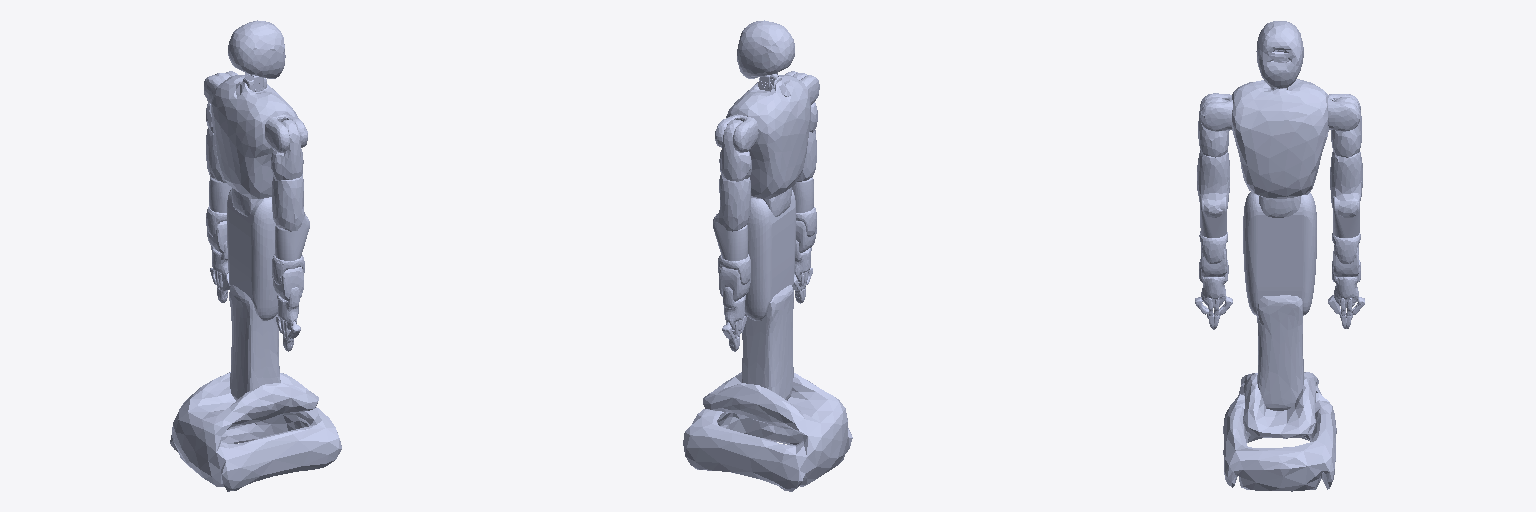
--- What the picture shows (computed from the rendered views, not written in the file) ---
Views: 3 orthographic renders of the robot side by side, from view 1: azimuth 30°, elevation 25°; view 2: azimuth 150°, elevation 25°; view 3: azimuth 270°, elevation 25°.
Model autolife with 39 links and 38 joints (22 revolute, 2 prismatic, 14 fixed), rooted at Link_Zero_Point, posed all joints at 0.
Visible links, largest first — view 1: Link_Ground_Vehicle, Link_Waist_Yaw_to_Shoulder_Inner, Link_Knee_to_Waist_Pitch, Link_Ankle_to_Knee, Link_Head, Link_Right_UpperArm_to_Elbow, Link_Right_Shoulder_Outer_to_UpperArm, Link_Right_Shoulder_Inner_to_Shoulder_Outer, Link_Right_Elbow_to_Forearm, Link_Right_Wrist_Upper_to_Wrist_Lower, Link_Right_Wrist_Lower_to_Gripper, Link_Left_Elbow_to_Forearm (+1 smaller); view 2: Link_Ground_Vehicle, Link_Waist_Yaw_to_Shoulder_Inner, Link_Knee_to_Waist_Pitch, Link_Ankle_to_Knee, Link_Head, Link_Left_UpperArm_to_Elbow, Link_Left_Shoulder_Outer_to_UpperArm, Link_Left_Shoulder_Inner_to_Shoulder_Outer, Link_Left_Elbow_to_Forearm, Link_Left_Wrist_Upper_to_Wrist_Lower, Link_Left_Wrist_Lower_to_Gripper, Link_Right_Elbow_to_Forearm; view 3: Link_Ground_Vehicle, Link_Waist_Yaw_to_Shoulder_Inner, Link_Knee_to_Waist_Pitch, Link_Ankle_to_Knee, Link_Head, Link_Left_UpperArm_to_Elbow, Link_Right_UpperArm_to_Elbow, Link_Right_Shoulder_Inner_to_Shoulder_Outer, Link_Left_Shoulder_Inner_to_Shoulder_Outer, Link_Right_Shoulder_Outer_to_UpperArm, Link_Left_Shoulder_Outer_to_UpperArm, Link_Waist_Pitch_to_Waist_Yaw (+6 smaller).
Boxes of the visible links, left/top/right/bottom form: Link_Ground_Vehicle: left=170, top=372, right=341, bottom=491; Link_Waist_Yaw_to_Shoulder_Inner: left=211, top=75, right=298, bottom=198; Link_Knee_to_Waist_Pitch: left=227, top=189, right=277, bottom=320; Link_Ankle_to_Knee: left=229, top=285, right=280, bottom=400; Link_Head: left=228, top=20, right=285, bottom=78; Link_Right_UpperArm_to_Elbow: left=272, top=174, right=307, bottom=231; Link_Right_Shoulder_Outer_to_UpperArm: left=271, top=120, right=303, bottom=180; Link_Right_Shoulder_Inner_to_Shoulder_Outer: left=265, top=114, right=307, bottom=152; Link_Right_Elbow_to_Forearm: left=275, top=218, right=309, bottom=260; Link_Right_Wrist_Upper_to_Wrist_Lower: left=272, top=267, right=303, bottom=300; Link_Right_Wrist_Lower_to_Gripper: left=277, top=287, right=299, bottom=329; Link_Left_Elbow_to_Forearm: left=209, top=176, right=231, bottom=212; Link_Ground_Vehicle: left=683, top=372, right=852, bottom=491; Link_Waist_Yaw_to_Shoulder_Inner: left=726, top=75, right=810, bottom=198; Link_Knee_to_Waist_Pitch: left=745, top=190, right=795, bottom=320; Link_Ankle_to_Knee: left=742, top=285, right=793, bottom=400; Link_Head: left=737, top=20, right=794, bottom=78; Link_Left_UpperArm_to_Elbow: left=713, top=174, right=751, bottom=231; Link_Left_Shoulder_Outer_to_UpperArm: left=719, top=120, right=751, bottom=181; Link_Left_Shoulder_Inner_to_Shoulder_Outer: left=715, top=114, right=758, bottom=152; Link_Left_Elbow_to_Forearm: left=713, top=219, right=747, bottom=260; Link_Left_Wrist_Upper_to_Wrist_Lower: left=719, top=267, right=750, bottom=301; Link_Left_Wrist_Lower_to_Gripper: left=723, top=287, right=745, bottom=329; Link_Right_Elbow_to_Forearm: left=792, top=177, right=813, bottom=212; Link_Ground_Vehicle: left=1223, top=372, right=1336, bottom=491; Link_Waist_Yaw_to_Shoulder_Inner: left=1232, top=79, right=1328, bottom=198; Link_Knee_to_Waist_Pitch: left=1243, top=192, right=1316, bottom=315; Link_Ankle_to_Knee: left=1257, top=295, right=1303, bottom=410; Link_Head: left=1256, top=21, right=1303, bottom=88; Link_Left_UpperArm_to_Elbow: left=1330, top=151, right=1362, bottom=217; Link_Right_UpperArm_to_Elbow: left=1197, top=150, right=1229, bottom=217; Link_Right_Shoulder_Inner_to_Shoulder_Outer: left=1200, top=93, right=1232, bottom=131; Link_Left_Shoulder_Inner_to_Shoulder_Outer: left=1328, top=94, right=1360, bottom=131; Link_Right_Shoulder_Outer_to_UpperArm: left=1198, top=97, right=1229, bottom=157; Link_Left_Shoulder_Outer_to_UpperArm: left=1331, top=97, right=1361, bottom=157; Link_Waist_Pitch_to_Waist_Yaw: left=1259, top=196, right=1300, bottom=217.
Size in the robot's own frame: 0.5444 by 0.5882 by 1.68 metres.
35 mesh visuals loaded from 35 distinct referenced files (35 binary STL).

URDF robot description (autolife):
<?xml version="1.0" encoding="utf-8"?>
<robot name="autolife" path="/media/run/Work/Autolife-Planning/resources/robot/autolife/autolife_base_simple.urdf">
	<link name="Link_Zero_Point"></link>
	<link name="Link_Ground_Vehicle">
		<inertial>
			<origin xyz="-0.00059754303639295 0.0149481956156007 0.148277224545407" rpy="0 0 0"></origin>
			<mass value="1.76472901588276"></mass>
			<inertia ixx="0.00762290845782773" ixy="-2.93910770754353E-06" ixz="1.23694503771444E-05" iyy="0.00825103535952957" iyz="-0.000230532648823267" izz="0.0116628518559184"></inertia>
		</inertial>
		<visual>
			<origin xyz="0 0 0" rpy="0 0 0"></origin>
			<geometry>
				<mesh filename="package://meshes/Link_Ground_Vehicle.STL"></mesh>
			</geometry>
			<material name="">
				<color rgba="0.792156862745098 0.819607843137255 0.933333333333333 1"></color>
			</material>
		</visual>
		<collision>
			<geometry>
				<sphere radius="0.229268"></sphere>
			</geometry>
			<origin xyz="0.05104522626781464 -0.07125896588134766 0.15496367951934784" rpy="0 0 0"></origin>
		</collision>
		<collision>
			<geometry>
				<sphere radius="0.230799"></sphere>
			</geometry>
			<origin xyz="-0.006399773732185364 0.15706803411865233 0.14678767951934785" rpy="0 0 0"></origin>
		</collision>
		<collision>
			<geometry>
				<sphere radius="0.228216"></sphere>
			</geometry>
			<origin xyz="-0.04968377373218536 -0.08280196588134765 0.16545967951934784" rpy="0 0 0"></origin>
		</collision>
	</link>
	<link name="Link_Ankle_to_Knee">
		<inertial>
			<origin xyz="0.16976859107005 5.04511593380345E-05 -0.011659592653352" rpy="0 0 0"></origin>
			<mass value="0.970205344211634"></mass>
			<inertia ixx="0.00239278275003047" ixy="1.06865300816035E-05" ixz="9.37318496690757E-05" iyy="0.0180709718856655" iyz="4.97919456103669E-05" izz="0.0167571631367957"></inertia>
		</inertial>
		<visual>
			<origin xyz="0 0 0" rpy="0 0 0"></origin>
			<geometry>
				<mesh filename="package://meshes/Link_Ankle_to_Knee.STL"></mesh>
			</geometry>
			<material name="">
				<color rgba="0.792156862745098 0.819607843137255 0.933333333333333 1"></color>
			</material>
		</visual>
		<collision>
			<geometry>
				<sphere radius="0.103339"></sphere>
			</geometry>
			<origin xyz="0.3533721266674995 -0.005940688749074936 -0.0006172192668914795" rpy="0 0 0"></origin>
		</collision>
		<collision>
			<geometry>
				<sphere radius="0.100443"></sphere>
			</geometry>
			<origin xyz="0.03603512666749953 0.006747311250925064 5.8780733108520535e-05" rpy="0 0 0"></origin>
		</collision>
		<collision>
			<geometry>
				<sphere radius="0.1022"></sphere>
			</geometry>
			<origin xyz="-0.0027448733325004526 0.006115311250925064 -0.0014492192668914795" rpy="0 0 0"></origin>
		</collision>
		<collision>
			<geometry>
				<sphere radius="0.10376"></sphere>
			</geometry>
			<origin xyz="0.23262012666749954 0.004499311250925064 -0.00985521926689148" rpy="0 0 0"></origin>
		</collision>
		<collision>
			<geometry>
				<sphere radius="0.105695"></sphere>
			</geometry>
			<origin xyz="0.10015712666749954 0.003996311250925064 -0.01198721926689148" rpy="0 0 0"></origin>
		</collision>
		<collision>
			<geometry>
				<sphere radius="0.102211"></sphere>
			</geometry>
			<origin xyz="0.2991231266674995 -0.005782688749074936 -0.0005412192668914795" rpy="0 0 0"></origin>
		</collision>
		<collision>
			<geometry>
				<sphere radius="0.097339"></sphere>
			</geometry>
			<origin xyz="0.17599112666749955 0.008318311250925064 0.0024257807331085207" rpy="0 0 0"></origin>
		</collision>
	</link>
	<link name="Link_Knee_to_Waist_Pitch">
		<inertial>
			<origin xyz="0.190516175706594 0.00160329738556641 0.0308179544587926" rpy="0 0 0"></origin>
			<mass value="0.785107966337333"></mass>
			<inertia ixx="0.000958495389468965" ixy="-0.000157190431521544" ixz="4.0764501712907E-07" iyy="0.0115279594207101" iyz="-6.27934480130648E-08" izz="0.0122760868809789"></inertia>
		</inertial>
		<visual>
			<origin xyz="0 0 0" rpy="0 0 0"></origin>
			<geometry>
				<mesh filename="package://meshes/Link_Knee_to_Waist_Pitch.STL"></mesh>
			</geometry>
			<material name="">
				<color rgba="0.792156862745098 0.819607843137255 0.933333333333333 1"></color>
			</material>
		</visual>
		<collision>
			<geometry>
				<sphere radius="0.133092"></sphere>
			</geometry>
			<origin xyz="0.32433417086791994 0.0008833962820768357 -0.001528" rpy="0 0 0"></origin>
		</collision>
		<collision>
			<geometry>
				<sphere radius="0.141159"></sphere>
			</geometry>
			<origin xyz="0.059476170867919925 -0.00012460371792316432 -0.002519" rpy="0 0 0"></origin>
		</collision>
		<collision>
			<geometry>
				<sphere radius="0.147757"></sphere>
			</geometry>
			<origin xyz="0.2086051708679199 0.0009443962820768356 0.003127" rpy="0 0 0"></origin>
		</collision>
	</link>
	<link name="Link_Waist_Pitch_to_Waist_Yaw">
		<inertial>
			<origin xyz="0.0152074286340816 -0.000372613686719535 0.000444933410472928" rpy="0 0 0"></origin>
			<mass value="0.275824503631058"></mass>
			<inertia ixx="0.00059017216172053" ixy="-3.01831260181908E-06" ixz="5.4853813537808E-06" iyy="0.000866684105629655" iyz="8.7380244066877E-07" izz="0.000589200767126788"></inertia>
		</inertial>
		<visual>
			<origin xyz="0 0 0" rpy="0 0 0"></origin>
			<geometry>
				<mesh filename="package://meshes/Link_Waist_Pitch_to_Waist_Yaw.STL"></mesh>
			</geometry>
			<material name="">
				<color rgba="0.792156862745098 0.819607843137255 0.933333333333333 1"></color>
			</material>
		</visual>
		<collision>
			<geometry>
				<sphere radius="0.095622"></sphere>
			</geometry>
			<origin xyz="0.008778888877868651 -0.008542290694475175 0.00024362606048583985" rpy="0 0 0"></origin>
		</collision>
		<collision>
			<geometry>
				<sphere radius="0.095822"></sphere>
			</geometry>
			<origin xyz="0.009688888877868652 0.009245709305524825 -1.6373939514160182e-05" rpy="0 0 0"></origin>
		</collision>
	</link>
	<link name="Link_Waist_Yaw_to_Shoulder_Inner">
		<inertial>
			<origin xyz="-0.00128643613825427 1.47073825186722E-05 -0.181383848869264" rpy="0 0 0"></origin>
			<mass value="1.43697295227155"></mass>
			<inertia ixx="0.0200602530913065" ixy="1.16529704393161E-06" ixz="-0.000230073286953698" iyy="0.0101259213155954" iyz="-5.67858946900702E-06" izz="0.0120288729570786"></inertia>
		</inertial>
		<visual>
			<origin xyz="0 0 0" rpy="0 0 0"></origin>
			<geometry>
				<mesh filename="package://meshes/Link_Waist_Yaw_to_Shoulder_Inner.STL"></mesh>
			</geometry>
			<material name="">
				<color rgba="0.792156862745098 0.819607843137255 0.933333333333333 1"></color>
			</material>
		</visual>
		<collision>
			<geometry>
				<sphere radius="0.188175"></sphere>
			</geometry>
			<origin xyz="-0.0003159945750236511 0.0002136508936882019 -0.24800101020336152" rpy="0 0 0"></origin>
		</collision>
		<collision>
			<geometry>
				<sphere radius="0.166372"></sphere>
			</geometry>
			<origin xyz="0.004129005424976349 0.002753650893688202 -0.11299101020336151" rpy="0 0 0"></origin>
		</collision>
	</link>
	<link name="Link_Left_Shoulder_Inner_to_Shoulder_Outer">
		<inertial>
			<origin xyz="0.00316526487091364 -0.000975093260002557 0.0535894465070502" rpy="0 0 0"></origin>
			<mass value="0.203200806738131"></mass>
			<inertia ixx="0.000360716094859449" ixy="-3.24358715788642E-06" ixz="-1.16111797925121E-05" iyy="0.000366235163476432" iyz="-2.76750313603116E-06" izz="0.000253849475481663"></inertia>
		</inertial>
		<visual>
			<origin xyz="0 0 0" rpy="0 0 0"></origin>
			<geometry>
				<mesh filename="package://meshes/Link_Left_Shoulder_Inner_to_Shoulder_Outer.STL"></mesh>
			</geometry>
			<material name="">
				<color rgba="0.792156862745098 0.819607843137255 0.933333333333333 1"></color>
			</material>
		</visual>
		<collision>
			<geometry>
				<sphere radius="0.075542"></sphere>
			</geometry>
			<origin xyz="0.004340394009113312 -0.0010442133578062057 0.041953177111908796" rpy="0 0 0"></origin>
		</collision>
		<collision>
			<geometry>
				<sphere radius="0.07272"></sphere>
			</geometry>
			<origin xyz="0.00029239400911331174 -0.0005382133578062057 0.07977517711190879" rpy="0 0 0"></origin>
		</collision>
	</link>
	<link name="Link_Left_Shoulder_Outer_to_UpperArm">
		<inertial>
			<origin xyz="0.0797776408457354 0.00438791447566497 -0.0203464442672691" rpy="0 0 0"></origin>
			<mass value="0.313723970319552"></mass>
			<inertia ixx="0.000302758902108125" ixy="-3.79594394234498E-06" ixz="-5.06365685072851E-06" iyy="0.000253514048396291" iyz="7.1709863236798E-07" izz="0.00035270293278015"></inertia>
		</inertial>
		<visual>
			<origin xyz="0 0 0" rpy="0 0 0"></origin>
			<geometry>
				<mesh filename="package://meshes/Link_Left_Shoulder_Outer_to_UpperArm.STL"></mesh>
			</geometry>
			<material name="">
				<color rgba="0.792156862745098 0.819607843137255 0.933333333333333 1"></color>
			</material>
		</visual>
		<collision>
			<geometry>
				<sphere radius="0.086315"></sphere>
			</geometry>
			<origin xyz="0.0875033046015501 0.003933844519376755 -0.02058380440378189" rpy="0 0 0"></origin>
		</collision>
		<collision>
			<geometry>
				<sphere radius="0.049416"></sphere>
			</geometry>
			<origin xyz="-0.010080695398449899 0.017449844519376756 -0.01372380440378189" rpy="0 0 0"></origin>
		</collision>
		<collision>
			<geometry>
				<sphere radius="0.052103"></sphere>
			</geometry>
			<origin xyz="-0.008744695398449895 -0.026086155480623246 -0.01617180440378189" rpy="0 0 0"></origin>
		</collision>
	</link>
	<link name="Link_Left_UpperArm_to_Elbow">
		<inertial>
			<origin xyz="0.00469066352696576 0.00280721881312804 0.12941118482707" rpy="0 0 0"></origin>
			<mass value="0.40753361857715"></mass>
			<inertia ixx="0.000849007781256294" ixy="-4.79925419678671E-06" ixz="-6.54071461646154E-06" iyy="0.000747645829861676" iyz="-8.32279484608779E-06" izz="0.000314125127984671"></inertia>
		</inertial>
		<visual>
			<origin xyz="0 0 0" rpy="0 0 0"></origin>
			<geometry>
				<mesh filename="package://meshes/Link_Left_UpperArm_to_Elbow.STL"></mesh>
			</geometry>
			<material name="">
				<color rgba="0.792156862745098 0.819607843137255 0.933333333333333 1"></color>
			</material>
		</visual>
		<collision>
			<geometry>
				<sphere radius="0.064875"></sphere>
			</geometry>
			<origin xyz="0.017647079228162766 0.0006244245929718018 0.20209688007573784" rpy="0 0 0"></origin>
		</collision>
		<collision>
			<geometry>
				<sphere radius="0.068368"></sphere>
			</geometry>
			<origin xyz="-0.0038499207718372345 -0.0021025754070281982 0.14311588007573783" rpy="0 0 0"></origin>
		</collision>
		<collision>
			<geometry>
				<sphere radius="0.073568"></sphere>
			</geometry>
			<origin xyz="-0.001519920771837234 0.00013442459297180183 0.06354688007573783" rpy="0 0 0"></origin>
		</collision>
	</link>
	<link name="Link_Left_Elbow_to_Forearm">
		<inertial>
			<origin xyz="0.0578034426716068 -0.0222139442784815 -0.0352423475562958" rpy="0 0 0"></origin>
			<mass value="0.191019644801941"></mass>
			<inertia ixx="0.000223603837538264" ixy="3.90546584040872E-05" ixz="-1.61807679619802E-06" iyy="0.000367596041466736" iyz="1.03273596576807E-06" izz="0.000490020029501822"></inertia>
		</inertial>
		<visual>
			<origin xyz="0 0 0" rpy="0 0 0"></origin>
			<geometry>
				<mesh filename="package://meshes/Link_Left_Elbow_to_Forearm.STL"></mesh>
			</geometry>
			<material name="">
				<color rgba="0.792156862745098 0.819607843137255 0.933333333333333 1"></color>
			</material>
		</visual>
		<collision>
			<geometry>
				<sphere radius="0.074207"></sphere>
			</geometry>
			<origin xyz="0.011562470895038299 -0.0077238088769961116 -0.036215054328501306" rpy="0 0 0"></origin>
		</collision>
		<collision>
			<geometry>
				<sphere radius="0.072483"></sphere>
			</geometry>
			<origin xyz="0.0778874708950383 -0.023994808876996114 -0.036103054328501305" rpy="0 0 0"></origin>
		</collision>
	</link>
	<link name="Link_Left_Forearm_to_Wrist_Upper">
		<inertial>
			<origin xyz="0.00884879907540006 8.4246855457909E-05 0.0236841933615141" rpy="0 0 0"></origin>
			<mass value="0.11093689253481"></mass>
			<inertia ixx="0.000110510127794654" ixy="1.65189500113761E-07" ixz="-1.30730109055405E-05" iyy="9.24118078082804E-05" iyz="-1.2295297722809E-07" izz="8.15829870338748E-05"></inertia>
		</inertial>
		<visual>
			<origin xyz="0 0 0" rpy="0 0 0"></origin>
			<geometry>
				<mesh filename="package://meshes/Link_Left_Forearm_to_Wrist_Upper.STL"></mesh>
			</geometry>
			<material name="">
				<color rgba="0.792156862745098 0.819607843137255 0.933333333333333 1"></color>
			</material>
		</visual>
		<collision>
			<geometry>
				<sphere radius="0.063956"></sphere>
			</geometry>
			<origin xyz="0.014134482553362847 0.00044894519782066346 0.030105778318792582" rpy="0 0 0"></origin>
		</collision>
		<collision>
			<geometry>
				<sphere radius="0.063514"></sphere>
			</geometry>
			<origin xyz="-0.014678517446637153 0.00017094519782066345 0.02946977831879258" rpy="0 0 0"></origin>
		</collision>
	</link>
	<link name="Link_Left_Wrist_Upper_to_Wrist_Lower">
		<inertial>
			<origin xyz="0.0280879867655229 0.00123667993081761 -0.0308377186330782" rpy="0 0 0"></origin>
			<mass value="0.120451219778188"></mass>
			<inertia ixx="0.000104888875206667" ixy="2.44941774026814E-06" ixz="1.75533525604633E-05" iyy="0.000167140580493018" iyz="-3.98051418338599E-08" izz="0.000217735697904306"></inertia>
		</inertial>
		<visual>
			<origin xyz="0 0 0" rpy="0 0 0"></origin>
			<geometry>
				<mesh filename="package://meshes/Link_Left_Wrist_Upper_to_Wrist_Lower.STL"></mesh>
			</geometry>
			<material name="">
				<color rgba="0.792156862745098 0.819607843137255 0.933333333333333 1"></color>
			</material>
		</visual>
		<collision>
			<geometry>
				<sphere radius="0.06172"></sphere>
			</geometry>
			<origin xyz="0.05054439018929005 -0.0015083053294420242 -0.03034409247159958" rpy="0 0 0"></origin>
		</collision>
		<collision>
			<geometry>
				<sphere radius="0.060718"></sphere>
			</geometry>
			<origin xyz="0.005826390189290046 -0.0004163053294420242 -0.030853092471599577" rpy="0 0 0"></origin>
		</collision>
	</link>
	<link name="Link_Left_Wrist_Lower_to_Gripper">
		<inertial>
			<origin xyz="0.0722688825275414 -0.000281747636267318 -0.0253587667328281" rpy="0 0 0"></origin>
			<mass value="0.143735533635864"></mass>
			<inertia ixx="8.22564890950023E-05" ixy="-1.48607286636697E-08" ixz="9.61668940336311E-06" iyy="0.000139062689036289" iyz="-1.476725997964E-07" izz="9.36641295677773E-05"></inertia>
		</inertial>
		<visual>
			<origin xyz="0 0 0" rpy="0 0 0"></origin>
			<geometry>
				<mesh filename="package://meshes/Link_Left_Wrist_Lower_to_Gripper.STL"></mesh>
			</geometry>
			<material name="">
				<color rgba="0.792156862745098 0.819607843137255 0.933333333333333 1"></color>
			</material>
		</visual>
		<collision>
			<geometry>
				<sphere radius="0.032636"></sphere>
			</geometry>
			<origin xyz="0.009811072804033753 0.0050070528464317325 -0.07165383957976103" rpy="0 0 0"></origin>
		</collision>
		<collision>
			<geometry>
				<sphere radius="0.026463"></sphere>
			</geometry>
			<origin xyz="0.0027410728040337534 -0.0013119471535682679 0.007903160420238975" rpy="0 0 0"></origin>
		</collision>
		<collision>
			<geometry>
				<sphere radius="0.037617"></sphere>
			</geometry>
			<origin xyz="0.038529072804033754 -0.0030389471535682677 -0.0008418395797610279" rpy="0 0 0"></origin>
		</collision>
		<collision>
			<geometry>
				<sphere radius="0.051486"></sphere>
			</geometry>
			<origin xyz="0.07264607280403376 -0.00041994715356826785 -0.03113583957976103" rpy="0 0 0"></origin>
		</collision>
		<collision>
			<geometry>
				<sphere radius="0.045602"></sphere>
			</geometry>
			<origin xyz="0.11517307280403376 0.00016105284643173217 -0.02895283957976103" rpy="0 0 0"></origin>
		</collision>
		<collision>
			<geometry>
				<sphere radius="0.037078"></sphere>
			</geometry>
			<origin xyz="0.05098307280403376 -0.002363947153568268 -0.05314683957976103" rpy="0 0 0"></origin>
		</collision>
	</link>
	<link name="Link_Left_Gripper">
		<inertial>
			<origin xyz="0.0126186699666561 -0.027875132662957 -0.0109906823465419" rpy="0 0 0"></origin>
			<mass value="0.0206519659090923"></mass>
			<inertia ixx="4.42160130308428E-06" ixy="-7.97784020067071E-07" ixz="7.60298747824409E-12" iyy="2.90495669588392E-06" iyz="-1.68911741847704E-11" izz="4.78225000091538E-06"></inertia>
		</inertial>
		<visual>
			<origin xyz="0 0 0" rpy="0 0 0"></origin>
			<geometry>
				<mesh filename="package://meshes/Link_Left_Gripper.STL"></mesh>
			</geometry>
			<material name="">
				<color rgba="0.792156862745098 0.819607843137255 0.933333333333333 1"></color>
			</material>
		</visual>
		<collision>
			<geometry>
				<sphere radius="0.019004"></sphere>
			</geometry>
			<origin xyz="0.020290047492325304 -0.021407955209493637 -0.011406788352683186" rpy="0 0 0"></origin>
		</collision>
		<collision>
			<geometry>
				<sphere radius="0.016829"></sphere>
			</geometry>
			<origin xyz="0.003295047492325306 -0.05164895520949364 -0.01914978835268319" rpy="0 0 0"></origin>
		</collision>
		<collision>
			<geometry>
				<sphere radius="0.01674"></sphere>
			</geometry>
			<origin xyz="0.005428047492325306 -0.005153955209493636 -0.011004788352683186" rpy="0 0 0"></origin>
		</collision>
		<collision>
			<geometry>
				<sphere radius="0.015258"></sphere>
			</geometry>
			<origin xyz="0.0026170474923253063 -0.05447595520949364 -0.0032757883526831864" rpy="0 0 0"></origin>
		</collision>
		<collision>
			<geometry>
				<sphere radius="0.010772"></sphere>
			</geometry>
			<origin xyz="-0.004022952507674694 0.012085044790506365 -0.011197788352683187" rpy="0 0 0"></origin>
		</collision>
		<collision>
			<geometry>
				<sphere radius="0.019223"></sphere>
			</geometry>
			<origin xyz="0.015184047492325305 -0.03339095520949364 -0.010012788352683186" rpy="0 0 0"></origin>
		</collision>
	</link>
	<link name="Link_Left_Gripper_Left_Inner_Knuckle">
		<inertial>
			<origin xyz="-0.00149978139404408 -0.0291513140270752 -0.0109999660740234" rpy="0 0 0"></origin>
			<mass value="0.0102146910854251"></mass>
			<inertia ixx="4.38129665838747E-06" ixy="-1.27262585579237E-07" ixz="-4.69592988551413E-12" iyy="1.74550878178614E-06" iyz="1.56865074576307E-12" izz="2.90359014358719E-06"></inertia>
		</inertial>
		<visual>
			<origin xyz="0 0 0" rpy="0 0 0"></origin>
			<geometry>
				<mesh filename="package://meshes/Link_Left_Gripper_Left_Inner_Knuckle.STL"></mesh>
			</geometry>
			<material name="">
				<color rgba="0.792156862745098 0.819607843137255 0.933333333333333 1"></color>
			</material>
		</visual>
		<collision>
			<geometry>
				<sphere radius="0.013136"></sphere>
			</geometry>
			<origin xyz="-0.0032310345068275927 -0.052233905863165855 -0.0014995389204919343" rpy="0 0 0"></origin>
		</collision>
		<collision>
			<geometry>
				<sphere radius="0.01108"></sphere>
			</geometry>
			<origin xyz="0.0008649654931724071 -0.002988905863165855 0.0037874610795080657" rpy="0 0 0"></origin>
		</collision>
		<collision>
			<geometry>
				<sphere radius="0.011429"></sphere>
			</geometry>
			<origin xyz="-0.0015810345068275927 -0.003047905863165855 -0.025805538920491936" rpy="0 0 0"></origin>
		</collision>
		<collision>
			<geometry>
				<sphere radius="0.012952"></sphere>
			</geometry>
			<origin xyz="-0.002347034506827593 -0.020838905863165856 0.0040664610795080654" rpy="0 0 0"></origin>
		</collision>
		<collision>
			<geometry>
				<sphere radius="0.013007"></sphere>
			</geometry>
			<origin xyz="-0.002363034506827593 -0.038425905863165855 -0.0017355389204919344" rpy="0 0 0"></origin>
		</collision>
		<collision>
			<geometry>
				<sphere radius="0.013208"></sphere>
			</geometry>
			<origin xyz="-0.002366034506827593 -0.03803390586316585 -0.019359538920491935" rpy="0 0 0"></origin>
		</collision>
		<collision>
			<geometry>
				<sphere radius="0.01281"></sphere>
			</geometry>
			<origin xyz="-0.002964034506827593 -0.052545905863165855 -0.020304538920491933" rpy="0 0 0"></origin>
		</collision>
		<collision>
			<geometry>
				<sphere radius="0.013251"></sphere>
			</geometry>
			<origin xyz="0.00046996549317240713 -0.021180905863165855 -0.025908538920491934" rpy="0 0 0"></origin>
		</collision>
	</link>
	<link name="Link_Left_Gripper_Left_Finger">
		<inertial>
			<origin xyz="0.000542638958085678 -0.0200563209809078 -0.0109440395306242" rpy="0 0 0"></origin>
			<mass value="0.020254003844163"></mass>
			<inertia ixx="3.55387488357024E-06" ixy="-3.66729422471639E-07" ixz="-1.28243746306772E-08" iyy="1.35355004511896E-06" iyz="-6.91287607168674E-09" izz="3.28174345791181E-06"></inertia>
		</inertial>
		<visual>
			<origin xyz="0 0 0" rpy="0 0 0"></origin>
			<geometry>
				<mesh filename="package://meshes/Link_Left_Gripper_Left_Finger.STL"></mesh>
			</geometry>
			<material name="">
				<color rgba="0.792156862745098 0.819607843137255 0.933333333333333 1"></color>
			</material>
		</visual>
		<collision>
			<geometry>
				<sphere radius="0.012766"></sphere>
			</geometry>
			<origin xyz="-0.004686663544297219 -0.050845253372222184 -0.010474954048737883" rpy="0 0 0"></origin>
		</collision>
		<collision>
			<geometry>
				<sphere radius="0.016962"></sphere>
			</geometry>
			<origin xyz="0.002750336455702782 -0.005964253372222186 -0.011371954048737884" rpy="0 0 0"></origin>
		</collision>
		<collision>
			<geometry>
				<sphere radius="0.016221"></sphere>
			</geometry>
			<origin xyz="0.00021333645570278167 -0.013135253372222185 -0.010886954048737884" rpy="0 0 0"></origin>
		</collision>
		<collision>
			<geometry>
				<sphere radius="0.016933"></sphere>
			</geometry>
			<origin xyz="-0.0017826635442972187 -0.028246253372222186 -0.011185954048737883" rpy="0 0 0"></origin>
		</collision>
		<collision>
			<geometry>
				<sphere radius="0.01407"></sphere>
			</geometry>
			<origin xyz="0.014040336455702782 0.004876746627777814 -0.010763954048737884" rpy="0 0 0"></origin>
		</collision>
		<collision>
			<geometry>
				<sphere radius="0.015497"></sphere>
			</geometry>
			<origin xyz="-0.0028806635442972187 -0.04192825337222218 -0.010847954048737883" rpy="0 0 0"></origin>
		</collision>
	</link>
	<link name="Link_Left_Gripper_Right_Outer_Knuckle">
		<inertial>
			<origin xyz="-0.0126255788814193 -0.0278720040657486 -0.011009317653226" rpy="0 0 0"></origin>
			<mass value="0.0206519659088955"></mass>
			<inertia ixx="4.42199669725233E-06" ixy="7.97407997149111E-07" ixz="7.60718271586224E-12" iyy="2.90456130176528E-06" iyz="1.68893057598828E-11" izz="4.78225000086968E-06"></inertia>
		</inertial>
		<visual>
			<origin xyz="0 0 0" rpy="0 0 0"></origin>
			<geometry>
				<mesh filename="package://meshes/Link_Left_Gripper_Right_Outer_Knuckle.STL"></mesh>
			</geometry>
			<material name="">
				<color rgba="0.792156862745098 0.819607843137255 0.933333333333333 1"></color>
			</material>
		</visual>
		<collision>
			<geometry>
				<sphere radius="0.02194"></sphere>
			</geometry>
			<origin xyz="-0.016648880051374437 -0.019873790562510492 -0.011000000406056643" rpy="0 0 0"></origin>
		</collision>
		<collision>
			<geometry>
				<sphere radius="0.020794"></sphere>
			</geometry>
			<origin xyz="-0.001020880051374436 -0.04839579056251049 -0.011171000406056642" rpy="0 0 0"></origin>
		</collision>
		<collision>
			<geometry>
				<sphere radius="0.023613"></sphere>
			</geometry>
			<origin xyz="-0.004704880051374436 -0.02832979056251049 -0.011000000406056643" rpy="0 0 0"></origin>
		</collision>
		<collision>
			<geometry>
				<sphere radius="0.018138"></sphere>
			</geometry>
			<origin xyz="0.0014911199486255643 0.003110209437489509 -0.010997000406056643" rpy="0 0 0"></origin>
		</collision>
	</link>
	<link name="Link_Left_Gripper_Right_Inner_Knuckle">
		<inertial>
			<origin xyz="0.00178954078758595 -0.0291349577136361 -0.0109999768255139" rpy="0 0 0"></origin>
			<mass value="0.0102146910854251"></mass>
			<inertia ixx="4.37638649589448E-06" ixy="1.70627672905001E-07" ixz="-4.9765690714653E-12" iyy="1.75041894427724E-06" iyz="5.91560913804151E-13" izz="2.90359014358907E-06"></inertia>
		</inertial>
		<visual>
			<origin xyz="0 0 0" rpy="0 0 0"></origin>
			<geometry>
				<mesh filename="package://meshes/Link_Left_Gripper_Right_Inner_Knuckle.STL"></mesh>
			</geometry>
			<material name="">
				<color rgba="0.792156862745098 0.819607843137255 0.933333333333333 1"></color>
			</material>
		</visual>
		<collision>
			<geometry>
				<sphere radius="0.010106"></sphere>
			</geometry>
			<origin xyz="7.398414891958242e-05 -0.0021656141363382356 0.0035667571302652364" rpy="0 0 0"></origin>
		</collision>
		<collision>
			<geometry>
				<sphere radius="0.013005"></sphere>
			</geometry>
			<origin xyz="0.0007759841489195824 -0.004765614136338234 -0.025912242869734765" rpy="0 0 0"></origin>
		</collision>
		<collision>
			<geometry>
				<sphere radius="0.013544"></sphere>
			</geometry>
			<origin xyz="0.004170984148919582 -0.05170061413633824 -0.0017862428697347638" rpy="0 0 0"></origin>
		</collision>
		<collision>
			<geometry>
				<sphere radius="0.013007"></sphere>
			</geometry>
			<origin xyz="0.003436984148919582 -0.05195061413633824 -0.020580242869734762" rpy="0 0 0"></origin>
		</collision>
		<collision>
			<geometry>
				<sphere radius="0.013254"></sphere>
			</geometry>
			<origin xyz="0.0007849841489195824 -0.025233614136338234 -0.025030242869734765" rpy="0 0 0"></origin>
		</collision>
		<collision>
			<geometry>
				<sphere radius="0.013371"></sphere>
			</geometry>
			<origin xyz="0.0019779841489195823 -0.03754661413633823 -0.018903242869734764" rpy="0 0 0"></origin>
		</collision>
		<collision>
			<geometry>
				<sphere radius="0.013122"></sphere>
			</geometry>
			<origin xyz="0.0018099841489195823 -0.033879614136338235 0.0005967571302652359" rpy="0 0 0"></origin>
		</collision>
		<collision>
			<geometry>
				<sphere radius="0.013205"></sphere>
			</geometry>
			<origin xyz="0.00015898414891958243 -0.01914661413633823 0.0037497571302652355" rpy="0 0 0"></origin>
		</collision>
	</link>
	<link name="Link_Left_Gripper_Right_Finger">
		<inertial>
			<origin xyz="-0.000542710826665127 -0.0200563210643344 -0.0110559205227932" rpy="0 0 0"></origin>
			<mass value="0.0202540038293407"></mass>
			<inertia ixx="3.55387488045586E-06" ixy="3.66729388373509E-07" ixz="-1.28251046906285E-08" iyy="1.35355008131058E-06" iyz="6.91671762066884E-09" izz="3.28174341527734E-06"></inertia>
		</inertial>
		<visual>
			<origin xyz="0 0 0" rpy="0 0 0"></origin>
			<geometry>
				<mesh filename="package://meshes/Link_Left_Gripper_Right_Finger.STL"></mesh>
			</geometry>
			<material name="">
				<color rgba="0.792156862745098 0.819607843137255 0.933333333333333 1"></color>
			</material>
		</visual>
		<collision>
			<geometry>
				<sphere radius="0.01724"></sphere>
			</geometry>
			<origin xyz="0.0006941597764194007 -0.023419743905097247 -0.011848093007028103" rpy="0 0 0"></origin>
		</collision>
		<collision>
			<geometry>
				<sphere radius="0.017533"></sphere>
			</geometry>
			<origin xyz="-0.0011568402235805986 -0.011815743905097245 -0.010799093007028103" rpy="0 0 0"></origin>
		</collision>
		<collision>
			<geometry>
				<sphere radius="0.013132"></sphere>
			</geometry>
			<origin xyz="0.004343159776419402 -0.05073574390509725 -0.012247093007028103" rpy="0 0 0"></origin>
		</collision>
		<collision>
			<geometry>
				<sphere radius="0.018505"></sphere>
			</geometry>
			<origin xyz="-0.0092968402235806 0.0018432560949027538 -0.010975093007028102" rpy="0 0 0"></origin>
		</collision>
		<collision>
			<geometry>
				<sphere radius="0.013205"></sphere>
			</geometry>
			<origin xyz="0.002207159776419401 -0.036913743905097246 -0.015673093007028103" rpy="0 0 0"></origin>
		</collision>
		<collision>
			<geometry>
				<sphere radius="0.014832"></sphere>
			</geometry>
			<origin xyz="0.002212159776419401 -0.038064743905097245 -0.005219093007028103" rpy="0 0 0"></origin>
		</collision>
	</link>
	<link name="Link_Right_Shoulder_Inner_to_Shoulder_Outer">
		<inertial>
			<origin xyz="0.00118185217574434 0.000942392887598009 0.0550924580464795" rpy="0 0 0"></origin>
			<mass value="0.213432264114562"></mass>
			<inertia ixx="0.000366655434805914" ixy="3.29056503177536E-06" ixz="-1.18266921369955E-05" iyy="0.000370038992752772" iyz="2.95183586981112E-06" izz="0.000256413523568039"></inertia>
		</inertial>
		<visual>
			<origin xyz="0 0 0" rpy="0 0 0"></origin>
			<geometry>
				<mesh filename="package://meshes/Link_Right_Shoulder_Inner_to_Shoulder_Outer.STL"></mesh>
			</geometry>
			<material name="">
				<color rgba="0.792156862745098 0.819607843137255 0.933333333333333 1"></color>
			</material>
		</visual>
		<collision>
			<geometry>
				<sphere radius="0.072711"></sphere>
			</geometry>
			<origin xyz="0.0006089254689216614 -0.0008185490442514419 0.07996463884435594" rpy="0 0 0"></origin>
		</collision>
		<collision>
			<geometry>
				<sphere radius="0.074985"></sphere>
			</geometry>
			<origin xyz="0.0028509254689216613 0.00017245095574855803 0.04230063884435594" rpy="0 0 0"></origin>
		</collision>
	</link>
	<link name="Link_Right_Shoulder_Outer_to_UpperArm">
		<inertial>
			<origin xyz="0.0797773908617689 -0.00439115439164139 -0.0203462148992158" rpy="0 0 0"></origin>
			<mass value="0.313729168243654"></mass>
			<inertia ixx="0.00030276290748115" ixy="3.80197649437393E-06" ixz="-5.06384837502757E-06" iyy="0.000253516902685008" iyz="-7.08121734112211E-07" izz="0.000352705108019649"></inertia>
		</inertial>
		<visual>
			<origin xyz="0 0 0" rpy="0 0 0"></origin>
			<geometry>
				<mesh filename="package://meshes/Link_Right_Shoulder_Outer_to_UpperArm.STL"></mesh>
			</geometry>
			<material name="">
				<color rgba="0.792156862745098 0.819607843137255 0.933333333333333 1"></color>
			</material>
		</visual>
		<collision>
			<geometry>
				<sphere radius="0.08968"></sphere>
			</geometry>
			<origin xyz="0.0847186576641798 -0.004736162143945694 -0.019858580677866937" rpy="0 0 0"></origin>
		</collision>
		<collision>
			<geometry>
				<sphere radius="0.048692"></sphere>
			</geometry>
			<origin xyz="-0.011896342335820195 0.014610837856054305 -0.014204580677866936" rpy="0 0 0"></origin>
		</collision>
		<collision>
			<geometry>
				<sphere radius="0.049497"></sphere>
			</geometry>
			<origin xyz="-0.008898342335820195 -0.023298162143945693 -0.016120580677866935" rpy="0 0 0"></origin>
		</collision>
	</link>
	<link name="Link_Right_UpperArm_to_Elbow">
		<inertial>
			<origin xyz="0.00541873370659093 -0.00326951500825667 0.139732124544462" rpy="0 0 0"></origin>
			<mass value="0.347653649804494"></mass>
			<inertia ixx="0.000763160476372006" ixy="4.7975551120003E-06" ixz="-7.61924323896886E-06" iyy="0.00068545977489044" iyz="8.26256096426581E-06" izz="0.000277537677604993"></inertia>
		</inertial>
		<visual>
			<origin xyz="0 0 0" rpy="0 0 0"></origin>
			<geometry>
				<mesh filename="package://meshes/Link_Right_UpperArm_to_Elbow.STL"></mesh>
			</geometry>
			<material name="">
				<color rgba="0.792156862745098 0.819607843137255 0.933333333333333 1"></color>
			</material>
		</visual>
		<collision>
			<geometry>
				<sphere radius="0.063863"></sphere>
			</geometry>
			<origin xyz="-0.0004693868781328204 -0.0011348146653175355 0.05350140504093469" rpy="0 0 0"></origin>
		</collision>
		<collision>
			<geometry>
				<sphere radius="0.072434"></sphere>
			</geometry>
			<origin xyz="0.01116161312186718 0.0007381853346824646 0.19217740504093467" rpy="0 0 0"></origin>
		</collision>
		<collision>
			<geometry>
				<sphere radius="0.070081"></sphere>
			</geometry>
			<origin xyz="-0.0025723868781328194 0.0002131853346824646 0.11509940504093469" rpy="0 0 0"></origin>
		</collision>
	</link>
	<link name="Link_Right_Elbow_to_Forearm">
		<inertial>
			<origin xyz="0.0578099453339372 0.0222143603324421 -0.0352358436170871" rpy="0 0 0"></origin>
			<mass value="0.191025125429196"></mass>
			<inertia ixx="0.000223610382100101" ixy="-3.9060324188661E-05" ixz="-1.64515461195713E-06" iyy="0.000367631600439802" iyz="-1.09664174547314E-06" izz="0.000490028080795422"></inertia>
		</inertial>
		<visual>
			<origin xyz="0 0 0" rpy="0 0 0"></origin>
			<geometry>
				<mesh filename="package://meshes/Link_Right_Elbow_to_Forearm.STL"></mesh>
			</geometry>
			<material name="">
				<color rgba="0.792156862745098 0.819607843137255 0.933333333333333 1"></color>
			</material>
		</visual>
		<collision>
			<geometry>
				<sphere radius="0.066045"></sphere>
			</geometry>
			<origin xyz="0.010753090339779857 0.006089657606840134 -0.03612400176846981" rpy="0 0 0"></origin>
		</collision>
		<collision>
			<geometry>
				<sphere radius="0.067801"></sphere>
			</geometry>
			<origin xyz="0.07323809033977985 0.025408657606840135 -0.03593700176846981" rpy="0 0 0"></origin>
		</collision>
	</link>
	<link name="Link_Right_Forearm_to_Wrist_Upper">
		<inertial>
			<origin xyz="0.00743431881876775 1.03457061279011E-06 0.0230186078618214" rpy="0 0 0"></origin>
			<mass value="0.114828988554897"></mass>
			<inertia ixx="0.00011167234296196" ixy="-1.03329837588883E-09" ixz="-1.3079042415296E-05" iyy="9.28462893944086E-05" iyz="1.96124953145855E-09" izz="8.25038904518323E-05"></inertia>
		</inertial>
		<visual>
			<origin xyz="0 0 0" rpy="0 0 0"></origin>
			<geometry>
				<mesh filename="package://meshes/Link_Right_Forearm_to_Wrist_Upper.STL"></mesh>
			</geometry>
			<material name="">
				<color rgba="0.792156862745098 0.819607843137255 0.933333333333333 1"></color>
			</material>
		</visual>
		<collision>
			<geometry>
				<sphere radius="0.063533"></sphere>
			</geometry>
			<origin xyz="-0.014989037977457046 8.749213898181916e-05 0.02959964241540432" rpy="0 0 0"></origin>
		</collision>
		<collision>
			<geometry>
				<sphere radius="0.064658"></sphere>
			</geometry>
			<origin xyz="0.024304962022542953 -0.001239507861018181 0.02435064241540432" rpy="0 0 0"></origin>
		</collision>
	</link>
	<link name="Link_Right_Wrist_Upper_to_Wrist_Lower">
		<inertial>
			<origin xyz="0.0280879850640203 0.0012366826436031 -0.0308377178555206" rpy="0 0 0"></origin>
			<mass value="0.120451214542922"></mass>
			<inertia ixx="0.000104888871266587" ixy="2.44941140515941E-06" ixz="1.75533534746792E-05" iyy="0.000167140570345676" iyz="-3.98049921382671E-08" izz="0.000217735683650262"></inertia>
		</inertial>
		<visual>
			<origin xyz="0 0 0" rpy="0 0 0"></origin>
			<geometry>
				<mesh filename="package://meshes/Link_Right_Wrist_Upper_to_Wrist_Lower.STL"></mesh>
			</geometry>
			<material name="">
				<color rgba="0.792156862745098 0.819607843137255 0.933333333333333 1"></color>
			</material>
		</visual>
		<collision>
			<geometry>
				<sphere radius="0.061609"></sphere>
			</geometry>
			<origin xyz="0.050907120458364485 -0.0016351470046043397 -0.03050550088700652" rpy="0 0 0"></origin>
		</collision>
		<collision>
			<geometry>
				<sphere radius="0.061351"></sphere>
			</geometry>
			<origin xyz="0.007394120458364486 0.0005668529953956604 -0.03092150088700652" rpy="0 0 0"></origin>
		</collision>
	</link>
	<link name="Link_Right_Wrist_Lower_to_Gripper">
		<inertial>
			<origin xyz="0.0726557579481283 -0.000280154625799797 -0.0253413086105766" rpy="0 0 0"></origin>
			<mass value="0.144552905707754"></mass>
			<inertia ixx="8.22974671111719E-05" ixy="-1.48659715178908E-08" ixz="9.61567421561625E-06" iyy="0.000139093952672852" iyz="-1.47706267791576E-07" izz="9.36768745077933E-05"></inertia>
		</inertial>
		<visual>
			<origin xyz="0 0 0" rpy="0 0 0"></origin>
			<geometry>
				<mesh filename="package://meshes/Link_Right_Wrist_Lower_to_Gripper.STL"></mesh>
			</geometry>
			<material name="">
				<color rgba="0.792156862745098 0.819607843137255 0.933333333333333 1"></color>
			</material>
		</visual>
		<collision>
			<geometry>
				<sphere radius="0.038019"></sphere>
			</geometry>
			<origin xyz="0.04880142289638519 -0.003204966007590294 -0.05347971812474728" rpy="0 0 0"></origin>
		</collision>
		<collision>
			<geometry>
				<sphere radius="0.0472"></sphere>
			</geometry>
			<origin xyz="0.11347242289638519 0.00027803399240970613 -0.03259471812474728" rpy="0 0 0"></origin>
		</collision>
		<collision>
			<geometry>
				<sphere radius="0.032174"></sphere>
			</geometry>
			<origin xyz="0.010089422896385196 0.0013540339924097062 -0.07210271812474728" rpy="0 0 0"></origin>
		</collision>
		<collision>
			<geometry>
				<sphere radius="0.048756"></sphere>
			</geometry>
			<origin xyz="0.06351242289638519 -0.0003599660075902939 -0.021415718124747275" rpy="0 0 0"></origin>
		</collision>
		<collision>
			<geometry>
				<sphere radius="0.024127"></sphere>
			</geometry>
			<origin xyz="0.0005004228963851887 -0.001126966007590294 0.007764281875252722" rpy="0 0 0"></origin>
		</collision>
		<collision>
			<geometry>
				<sphere radius="0.026286"></sphere>
			</geometry>
			<origin xyz="0.023561422896385194 0.0019520339924097062 0.006986281875252721" rpy="0 0 0"></origin>
		</collision>
	</link>
	<link name="Link_Right_Gripper">
		<inertial>
			<origin xyz="0.0126258598494104 -0.0278718607279 -0.0109907230959443" rpy="0 0 0"></origin>
			<mass value="0.0206519659152865"></mass>
			<inertia ixx="4.42201480389958E-06" ixy="-7.97390768798214E-07" ixz="8.76973854608117E-12" iyy="2.90454319544295E-06" iyz="-1.43158221743851E-11" izz="4.78225000112927E-06"></inertia>
		</inertial>
		<visual>
			<origin xyz="0 0 0" rpy="0 0 0"></origin>
			<geometry>
				<mesh filename="package://meshes/Link_Right_Gripper.STL"></mesh>
			</geometry>
			<material name="">
				<color rgba="0.792156862745098 0.819607843137255 0.933333333333333 1"></color>
			</material>
		</visual>
		<collision>
			<geometry>
				<sphere radius="0.021382"></sphere>
			</geometry>
			<origin xyz="0.01851290865468979 -0.019763008057653905 -0.009587508735954762" rpy="0 0 0"></origin>
		</collision>
		<collision>
			<geometry>
				<sphere radius="0.014333"></sphere>
			</geometry>
			<origin xyz="0.012506908654689789 -0.039741008057653904 -0.004912508735954762" rpy="0 0 0"></origin>
		</collision>
		<collision>
			<geometry>
				<sphere radius="0.016742"></sphere>
			</geometry>
			<origin xyz="-0.002039091345310211 0.006129991942346095 -0.011039508735954762" rpy="0 0 0"></origin>
		</collision>
		<collision>
			<geometry>
				<sphere radius="0.013993"></sphere>
			</geometry>
			<origin xyz="0.0010979086546897884 -0.055505008057653904 -0.002807508735954761" rpy="0 0 0"></origin>
		</collision>
		<collision>
			<geometry>
				<sphere radius="0.012907"></sphere>
			</geometry>
			<origin xyz="0.0016549086546897886 -0.05554300805765391 -0.019022508735954763" rpy="0 0 0"></origin>
		</collision>
		<collision>
			<geometry>
				<sphere radius="0.015473"></sphere>
			</geometry>
			<origin xyz="0.01382190865468979 -0.0382400080576539 -0.01930450873595476" rpy="0 0 0"></origin>
		</collision>
	</link>
	<link name="Link_Right_Gripper_Left_Inner_Knuckle">
		<inertial>
			<origin xyz="-0.00149531151743199 -0.029151532669742 -0.0109999951743339" rpy="0 0 0"></origin>
			<mass value="0.0102146910854251"></mass>
			<inertia ixx="4.38133562006096E-06" ixy="-1.26858462324769E-07" ixz="-4.76902129262822E-12" iyy="1.74546982011104E-06" iyz="4.09400980316841E-13" izz="2.90359014358882E-06"></inertia>
		</inertial>
		<visual>
			<origin xyz="0 0 0" rpy="0 0 0"></origin>
			<geometry>
				<mesh filename="package://meshes/Link_Right_Gripper_Left_Inner_Knuckle.STL"></mesh>
			</geometry>
			<material name="">
				<color rgba="0.792156862745098 0.819607843137255 0.933333333333333 1"></color>
			</material>
		</visual>
		<collision>
			<geometry>
				<sphere radius="0.010216"></sphere>
			</geometry>
			<origin xyz="0.0006737420150041578 -0.0021067302010804416 -0.025501786491215227" rpy="0 0 0"></origin>
		</collision>
		<collision>
			<geometry>
				<sphere radius="0.012862"></sphere>
			</geometry>
			<origin xyz="-0.002609257984995842 -0.01799073020108044 -0.02610378649121523" rpy="0 0 0"></origin>
		</collision>
		<collision>
			<geometry>
				<sphere radius="0.012929"></sphere>
			</geometry>
			<origin xyz="-0.001440257984995842 -0.036367730201080445 -0.02245278649121523" rpy="0 0 0"></origin>
		</collision>
		<collision>
			<geometry>
				<sphere radius="0.012964"></sphere>
			</geometry>
			<origin xyz="-0.002745257984995842 -0.05227973020108044 -0.020381786491215227" rpy="0 0 0"></origin>
		</collision>
		<collision>
			<geometry>
				<sphere radius="0.013585"></sphere>
			</geometry>
			<origin xyz="-0.002246257984995842 -0.03809973020108044 -0.0033037864912152286" rpy="0 0 0"></origin>
		</collision>
		<collision>
			<geometry>
				<sphere radius="0.011314"></sphere>
			</geometry>
			<origin xyz="-0.003235257984995842 -0.05386073020108044 -6.478649121522892e-05" rpy="0 0 0"></origin>
		</collision>
		<collision>
			<geometry>
				<sphere radius="0.012984"></sphere>
			</geometry>
			<origin xyz="-0.002397257984995842 -0.02195173020108044 0.003980213508784771" rpy="0 0 0"></origin>
		</collision>
		<collision>
			<geometry>
				<sphere radius="0.011139"></sphere>
			</geometry>
			<origin xyz="0.00039874201500415796 -0.0034327302010804424 0.003626213508784771" rpy="0 0 0"></origin>
		</collision>
	</link>
	<link name="Link_Right_Gripper_Left_Finger">
		<inertial>
			<origin xyz="0.000545352759208861 -0.0200562364150361 -0.0109440594481688" rpy="0 0 0"></origin>
			<mass value="0.0202540038896872"></mass>
			<inertia ixx="3.5539740718038E-06" ixy="-3.6643172372332E-07" ixz="-1.28237935522709E-08" iyy="1.35345090343178E-06" iyz="-6.91652985260133E-09" izz="3.28174342544628E-06"></inertia>
		</inertial>
		<visual>
			<origin xyz="0 0 0" rpy="0 0 0"></origin>
			<geometry>
				<mesh filename="package://meshes/Link_Right_Gripper_Left_Finger.STL"></mesh>
			</geometry>
			<material name="">
				<color rgba="0.792156862745098 0.819607843137255 0.933333333333333 1"></color>
			</material>
		</visual>
		<collision>
			<geometry>
				<sphere radius="0.018196"></sphere>
			</geometry>
			<origin xyz="0.002245037461906672 -0.0076185612706542 -0.01163658745688945" rpy="0 0 0"></origin>
		</collision>
		<collision>
			<geometry>
				<sphere radius="0.015696"></sphere>
			</geometry>
			<origin xyz="-0.0013139625380933287 -0.0241985612706542 -0.006627587456889451" rpy="0 0 0"></origin>
		</collision>
		<collision>
			<geometry>
				<sphere radius="0.011624"></sphere>
			</geometry>
			<origin xyz="-0.004890962538093329 -0.0521065612706542 -0.011231587456889451" rpy="0 0 0"></origin>
		</collision>
		<collision>
			<geometry>
				<sphere radius="0.013743"></sphere>
			</geometry>
			<origin xyz="0.013584037461906671 0.004595438729345799 -0.010331587456889451" rpy="0 0 0"></origin>
		</collision>
		<collision>
			<geometry>
				<sphere radius="0.016049"></sphere>
			</geometry>
			<origin xyz="-0.0027819625380933292 -0.041588561270654203 -0.01111258745688945" rpy="0 0 0"></origin>
		</collision>
		<collision>
			<geometry>
				<sphere radius="0.015412"></sphere>
			</geometry>
			<origin xyz="-0.0016799625380933287 -0.027704561270654203 -0.016061587456889452" rpy="0 0 0"></origin>
		</collision>
	</link>
	<link name="Link_Right_Gripper_Right_Outer_Knuckle">
		<inertial>
			<origin xyz="-0.0126183890070581 -0.0278752759363309 -0.011009276928954" rpy="0 0 0"></origin>
			<mass value="0.0206519659154423"></mass>
			<inertia ixx="4.42158318761922E-06" ixy="7.97801239226134E-07" ixz="8.76655291899067E-12" iyy="2.90497481167391E-06" iyz="1.43165388480865E-11" izz="4.78225000117387E-06"></inertia>
		</inertial>
		<visual>
			<origin xyz="0 0 0" rpy="0 0 0"></origin>
			<geometry>
				<mesh filename="package://meshes/Link_Right_Gripper_Right_Outer_Knuckle.STL"></mesh>
			</geometry>
			<material name="">
				<color rgba="0.792156862745098 0.819607843137255 0.933333333333333 1"></color>
			</material>
		</visual>
		<collision>
			<geometry>
				<sphere radius="0.017463"></sphere>
			</geometry>
			<origin xyz="0.0016521680646538733 0.005297250399589538 -0.011438681747570633" rpy="0 0 0"></origin>
		</collision>
		<collision>
			<geometry>
				<sphere radius="0.021069"></sphere>
			</geometry>
			<origin xyz="-0.020475831935346127 -0.02110974960041046 -0.009818681747570633" rpy="0 0 0"></origin>
		</collision>
		<collision>
			<geometry>
				<sphere radius="0.015599"></sphere>
			</geometry>
			<origin xyz="-0.014179831935346127 -0.03860774960041046 -0.018836681747570635" rpy="0 0 0"></origin>
		</collision>
		<collision>
			<geometry>
				<sphere radius="0.014364"></sphere>
			</geometry>
			<origin xyz="-0.011152831935346127 -0.04291574960041046 -0.0048616817475706335" rpy="0 0 0"></origin>
		</collision>
		<collision>
			<geometry>
				<sphere radius="0.01268"></sphere>
			</geometry>
			<origin xyz="-0.0016528319353461274 -0.055741749600410465 -0.019378681747570632" rpy="0 0 0"></origin>
		</collision>
		<collision>
			<geometry>
				<sphere radius="0.012618"></sphere>
			</geometry>
			<origin xyz="-0.001152831935346127 -0.05662074960041046 -0.003812681747570634" rpy="0 0 0"></origin>
		</collision>
	</link>
	<link name="Link_Right_Gripper_Right_Inner_Knuckle">
		<inertial>
			<origin xyz="0.00179400811779129 -0.0291346720397461 -0.0110000057897666" rpy="0 0 0"></origin>
			<mass value="0.0102146910854251"></mass>
			<inertia ixx="4.37633411312112E-06" ixy="1.71030276508952E-07" ixz="-4.75288026338584E-12" iyy="1.75047132705092E-06" iyz="-5.51953895001027E-13" izz="2.90359014358876E-06"></inertia>
		</inertial>
		<visual>
			<origin xyz="0 0 0" rpy="0 0 0"></origin>
			<geometry>
				<mesh filename="package://meshes/Link_Right_Gripper_Right_Inner_Knuckle.STL"></mesh>
			</geometry>
			<material name="">
				<color rgba="0.792156862745098 0.819607843137255 0.933333333333333 1"></color>
			</material>
		</visual>
		<collision>
			<geometry>
				<sphere radius="0.012689"></sphere>
			</geometry>
			<origin xyz="0.0017903826964199543 -0.004161005391985179 -0.02584662186032534" rpy="0 0 0"></origin>
		</collision>
		<collision>
			<geometry>
				<sphere radius="0.013638"></sphere>
			</geometry>
			<origin xyz="-3.4617303580045675e-05 -0.02489200539198518 -0.025267621860325336" rpy="0 0 0"></origin>
		</collision>
		<collision>
			<geometry>
				<sphere radius="0.01337"></sphere>
			</geometry>
			<origin xyz="0.0018103826964199544 -0.03744000539198518 -0.018718621860325337" rpy="0 0 0"></origin>
		</collision>
		<collision>
			<geometry>
				<sphere radius="0.013092"></sphere>
			</geometry>
			<origin xyz="0.0033683826964199543 -0.051897005391985176 -0.020599621860325337" rpy="0 0 0"></origin>
		</collision>
		<collision>
			<geometry>
				<sphere radius="0.014354"></sphere>
			</geometry>
			<origin xyz="0.0024923826964199543 -0.04026500539198518 -0.002123621860325336" rpy="0 0 0"></origin>
		</collision>
		<collision>
			<geometry>
				<sphere radius="0.010299"></sphere>
			</geometry>
			<origin xyz="0.004405382696419954 -0.05522100539198518 -0.00021362186032533592" rpy="0 0 0"></origin>
		</collision>
		<collision>
			<geometry>
				<sphere radius="0.013396"></sphere>
			</geometry>
			<origin xyz="0.0023393826964199544 -0.02047600539198518 0.0038553781396746638" rpy="0 0 0"></origin>
		</collision>
		<collision>
			<geometry>
				<sphere radius="0.011137"></sphere>
			</geometry>
			<origin xyz="-0.0017186173035800456 -0.0030190053919851786 0.0036633781396746643" rpy="0 0 0"></origin>
		</collision>
	</link>
	<link name="Link_Right_Gripper_Right_Finger">
		<inertial>
			<origin xyz="-0.000539997073784715 -0.0200563830974237 -0.0110559405546702" rpy="0 0 0"></origin>
			<mass value="0.0202540037905654"></mass>
			<inertia ixx="3.55377558791356E-06" ixy="3.67027072617117E-07" ixz="-1.2825664436535E-08" iyy="1.35364936278909E-06" iyz="6.91306480409945E-09" izz="3.28174339338345E-06"></inertia>
		</inertial>
		<visual>
			<origin xyz="0 0 0" rpy="0 0 0"></origin>
			<geometry>
				<mesh filename="package://meshes/Link_Right_Gripper_Right_Finger.STL"></mesh>
			</geometry>
			<material name="">
				<color rgba="0.792156862745098 0.819607843137255 0.933333333333333 1"></color>
			</material>
		</visual>
		<collision>
			<geometry>
				<sphere radius="0.016205"></sphere>
			</geometry>
			<origin xyz="-0.011518586709082127 0.002937719731599092 -0.011402198315009474" rpy="0 0 0"></origin>
		</collision>
		<collision>
			<geometry>
				<sphere radius="0.017265"></sphere>
			</geometry>
			<origin xyz="-0.0020695867090821263 -0.006923280268400906 -0.010152198315009475" rpy="0 0 0"></origin>
		</collision>
		<collision>
			<geometry>
				<sphere radius="0.017731"></sphere>
			</geometry>
			<origin xyz="0.00038741329091787277 -0.021726280268400906 -0.015551198315009476" rpy="0 0 0"></origin>
		</collision>
		<collision>
			<geometry>
				<sphere radius="0.017367"></sphere>
			</geometry>
			<origin xyz="0.0006354132909178727 -0.023645280268400907 -0.006524198315009474" rpy="0 0 0"></origin>
		</collision>
		<collision>
			<geometry>
				<sphere radius="0.016299"></sphere>
			</geometry>
			<origin xyz="0.0026594132909178742 -0.042380280268400905 -0.011423198315009474" rpy="0 0 0"></origin>
		</collision>
		<collision>
			<geometry>
				<sphere radius="0.011515"></sphere>
			</geometry>
			<origin xyz="0.0046084132909178736 -0.052398280268400904 -0.012434198315009474" rpy="0 0 0"></origin>
		</collision>
	</link>
	<link name="Link_Neck_Roll_to_Neck_Pitch">
		<inertial>
			<origin xyz="9.00799057568236E-09 -0.0153769718417676 -0.0319690356415148" rpy="0 0 0"></origin>
			<mass value="0.0266100129667274"></mass>
			<inertia ixx="1.94167834173447E-05" ixy="-1.28189825539986E-12" ixz="-2.17853093030532E-08" iyy="2.2535263819422E-05" iyz="-1.44714983931659E-06" izz="8.81279711603355E-06"></inertia>
		</inertial>
		<visual>
			<origin xyz="0 0 0" rpy="0 0 0"></origin>
			<geometry>
				<mesh filename="package://meshes/Link_Neck_Roll_to_Neck_Pitch.STL"></mesh>
			</geometry>
			<material name="">
				<color rgba="0.792156862745098 0.819607843137255 0.933333333333333 1"></color>
			</material>
		</visual>
		<collision>
			<geometry>
				<sphere radius="0.034495"></sphere>
			</geometry>
			<origin xyz="0.0009478018204569817 -0.019416322466373443 -0.05506648621335626" rpy="0 0 0"></origin>
		</collision>
		<collision>
			<geometry>
				<sphere radius="0.033579"></sphere>
			</geometry>
			<origin xyz="-0.0012451981795430184 -0.017206322466373443 -0.029783486213356258" rpy="0 0 0"></origin>
		</collision>
		<collision>
			<geometry>
				<sphere radius="0.035208"></sphere>
			</geometry>
			<origin xyz="-0.0006811981795430183 -0.009774322466373444 -0.009170486213356255" rpy="0 0 0"></origin>
		</collision>
	</link>
	<link name="Link_Neck_Pitch_to_Neck_Yaw">
		<inertial>
			<origin xyz="0.0238505080469287 -9.76610520708222E-06 -0.0216620659361968" rpy="0 0 0"></origin>
			<mass value="0.0345909525838143"></mass>
			<inertia ixx="1.69081772091428E-05" ixy="2.45260116927946E-08" ixz="-1.55444483688494E-06" iyy="2.32170534309525E-05" iyz="-1.29662866835045E-08" izz="1.54953705433974E-05"></inertia>
		</inertial>
		<visual>
			<origin xyz="0 0 0" rpy="0 0 0"></origin>
			<geometry>
				<mesh filename="package://meshes/Link_Neck_Pitch_to_Neck_Yaw.STL"></mesh>
			</geometry>
			<material name="">
				<color rgba="0.792156862745098 0.819607843137255 0.933333333333333 1"></color>
			</material>
		</visual>
		<collision>
			<geometry>
				<sphere radius="0.027094"></sphere>
			</geometry>
			<origin xyz="0.03870506776720285 0.0023120009313225744 -0.0059500230081379404" rpy="0 0 0"></origin>
		</collision>
		<collision>
			<geometry>
				<sphere radius="0.030006"></sphere>
			</geometry>
			<origin xyz="0.04157406776720285 0.004906000931322574 -0.03749002300813794" rpy="0 0 0"></origin>
		</collision>
		<collision>
			<geometry>
				<sphere radius="0.022096"></sphere>
			</geometry>
			<origin xyz="-0.014098932232797144 -0.009485999068677425 -0.00035102300813794063" rpy="0 0 0"></origin>
		</collision>
		<collision>
			<geometry>
				<sphere radius="0.020975"></sphere>
			</geometry>
			<origin xyz="0.0019210677672028536 1.0009313225746154e-06 -0.05739902300813794" rpy="0 0 0"></origin>
		</collision>
		<collision>
			<geometry>
				<sphere radius="0.020382"></sphere>
			</geometry>
			<origin xyz="0.006664067767202854 -0.010303999068677426 0.00014997699186205735" rpy="0 0 0"></origin>
		</collision>
		<collision>
			<geometry>
				<sphere radius="0.020783"></sphere>
			</geometry>
			<origin xyz="0.03943106776720286 7.700093132257462e-05 -0.05201102300813794" rpy="0 0 0"></origin>
		</collision>
		<collision>
			<geometry>
				<sphere radius="0.024461"></sphere>
			</geometry>
			<origin xyz="-0.0030189322327971464 0.010932000931322575 0.00014997699186205735" rpy="0 0 0"></origin>
		</collision>
		<collision>
			<geometry>
				<sphere radius="0.022453"></sphere>
			</geometry>
			<origin xyz="0.022749067767202855 1.4000931322574615e-05 -0.055723023008137945" rpy="0 0 0"></origin>
		</collision>
	</link>
	<link name="Link_Neck_Yaw_to_Head">
		<inertial>
			<origin xyz="0.00193435086076889 4.59725398180288E-07 -0.0269424648216687" rpy="0 0 0"></origin>
			<mass value="0.104705264997647"></mass>
			<inertia ixx="3.20050490880563E-05" ixy="1.94948183115771E-08" ixz="3.78179233059623E-07" iyy="3.31493363970408E-05" iyz="-7.72349390029116E-11" izz="4.70672045159716E-05"></inertia>
		</inertial>
		<visual>
			<origin xyz="0 0 0" rpy="0 0 0"></origin>
			<geometry>
				<mesh filename="package://meshes/Link_Neck_Yaw_to_Head.STL"></mesh>
			</geometry>
			<material name="">
				<color rgba="0.792156862745098 0.819607843137255 0.933333333333333 1"></color>
			</material>
		</visual>
		<collision>
			<geometry>
				<sphere radius="0.046122"></sphere>
			</geometry>
			<origin xyz="0.010051345101118088 0.0006763972820043564 -0.028189017598295583" rpy="0 0 0"></origin>
		</collision>
	</link>
	<link name="Link_Head">
		<inertial>
			<origin xyz="0.0102844159746608 -2.49959100005054E-05 -0.0282831011848594" rpy="0 0 0"></origin>
			<mass value="0.418450121685517"></mass>
			<inertia ixx="0.00209444856759002" ixy="-1.18557112184747E-07" ixz="5.90251420172751E-05" iyy="0.00162832850448213" iyz="-3.69207968883899E-07" izz="0.00154397866010588"></inertia>
		</inertial>
		<visual>
			<origin xyz="0 0 0" rpy="0 0 0"></origin>
			<geometry>
				<mesh filename="package://meshes/Link_Head.STL"></mesh>
			</geometry>
			<material name="">
				<color rgba="0.792156862745098 0.819607843137255 0.933333333333333 1"></color>
			</material>
		</visual>
		<collision>
			<geometry>
				<sphere radius="0.107025"></sphere>
			</geometry>
			<origin xyz="0.00035247105431556705 -0.006722453921079636 -0.02051524153137207" rpy="0 0 0"></origin>
		</collision>
		<collision>
			<geometry>
				<sphere radius="0.104034"></sphere>
			</geometry>
			<origin xyz="0.037901471054315565 0.013000546078920365 -0.05011724153137207" rpy="0 0 0"></origin>
		</collision>
	</link>
	<link name="Link_Virtual_X">
		<inertial>
			<origin xyz="0 0 0" rpy="0 0 0"></origin>
			<mass value="0.001"></mass>
			<inertia ixx="1e-9" ixy="0" ixz="0" iyy="1e-9" iyz="0" izz="1e-9"></inertia>
		</inertial>
	</link>
	<link name="Link_Virtual_Y">
		<inertial>
			<origin xyz="0 0 0" rpy="0 0 0"></origin>
			<mass value="0.001"></mass>
			<inertia ixx="1e-9" ixy="0" ixz="0" iyy="1e-9" iyz="0" izz="1e-9"></inertia>
		</inertial>
	</link>
	<link name="Link_Virtual_Theta">
		<inertial>
			<origin xyz="0 0 0" rpy="0 0 0"></origin>
			<mass value="0.001"></mass>
			<inertia ixx="1e-9" ixy="0" ixz="0" iyy="1e-9" iyz="0" izz="1e-9"></inertia>
		</inertial>
	</link>
	<joint name="Joint_Ankle" type="revolute">
		<origin xyz="0 0.0025695 0.28" rpy="0 -1.5708 0"></origin>
		<parent link="Link_Ground_Vehicle"></parent>
		<child link="Link_Ankle_to_Knee"></child>
		<axis xyz="0 0 -1"></axis>
		<limit lower="-1.5708" upper="1.5708" effort="150" velocity="1"></limit>
	</joint>
	<joint name="Joint_Knee" type="revolute">
		<origin xyz="0.3495 0 0" rpy="0 0 0"></origin>
		<parent link="Link_Ankle_to_Knee"></parent>
		<child link="Link_Knee_to_Waist_Pitch"></child>
		<axis xyz="0 0 1"></axis>
		<limit lower="-3.14" upper="3.14" effort="150" velocity="1"></limit>
	</joint>
	<joint name="Joint_Waist_Pitch" type="revolute">
		<origin xyz="0.3705 0 0" rpy="0 0 0"></origin>
		<parent link="Link_Knee_to_Waist_Pitch"></parent>
		<child link="Link_Waist_Pitch_to_Waist_Yaw"></child>
		<axis xyz="0 0 -1"></axis>
		<limit lower="-3" upper="3" effort="98" velocity="1"></limit>
	</joint>
	<joint name="Joint_Waist_Yaw" type="revolute">
		<origin xyz="0.06643 0 0" rpy="1.5708 0 -1.5708"></origin>
		<parent link="Link_Waist_Pitch_to_Waist_Yaw"></parent>
		<child link="Link_Waist_Yaw_to_Shoulder_Inner"></child>
		<axis xyz="0 0 -1"></axis>
		<limit lower="-3.141" upper="3.141" effort="66" velocity="1"></limit>
	</joint>
	<joint name="Joint_Left_Shoulder_Inner" type="revolute">
		<origin xyz="0 -0.1426 -0.27657" rpy="1.5708 0 0"></origin>
		<parent link="Link_Waist_Yaw_to_Shoulder_Inner"></parent>
		<child link="Link_Left_Shoulder_Inner_to_Shoulder_Outer"></child>
		<axis xyz="0 0 1"></axis>
		<limit lower="-2.8798" upper="2.8798" effort="21" velocity="1"></limit>
	</joint>
	<joint name="Joint_Left_Shoulder_Outer" type="revolute">
		<origin xyz="0.019255 0 0.080999" rpy="1.5709 0 1.5708"></origin>
		<parent link="Link_Left_Shoulder_Inner_to_Shoulder_Outer"></parent>
		<child link="Link_Left_Shoulder_Outer_to_UpperArm"></child>
		<axis xyz="0 0 -1"></axis>
		<limit lower="-3.1416" upper="0.2618" effort="18" velocity="1"></limit>
	</joint>
	<joint name="Joint_Left_UpperArm" type="revolute">
		<origin xyz="0.12925 0.0044999 -0.01925" rpy="1.5709 -1.5707 1.5708"></origin>
		<parent link="Link_Left_Shoulder_Outer_to_UpperArm"></parent>
		<child link="Link_Left_UpperArm_to_Elbow"></child>
		<axis xyz="0 0 1"></axis>
		<limit lower="-2.8798" upper="2.8798" effort="15" velocity="1"></limit>
	</joint>
	<joint name="Joint_Left_Elbow" type="revolute">
		<origin xyz="0.024998 0.036158 0.20735" rpy="-3.1416 -1.5705 1.5708"></origin>
		<parent link="Link_Left_UpperArm_to_Elbow"></parent>
		<child link="Link_Left_Elbow_to_Forearm"></child>
		<axis xyz="0 0 1"></axis>
		<limit lower="-0.0873" upper="2.61799" effort="12" velocity="1"></limit>
	</joint>
	<joint name="Joint_Left_Forearm" type="revolute">
		<origin xyz="0.1337 -0.025 -0.036136" rpy="1.5708 6.6051E-05 1.5708"></origin>
		<parent link="Link_Left_Elbow_to_Forearm"></parent>
		<child link="Link_Left_Forearm_to_Wrist_Upper"></child>
		<axis xyz="0 0 1"></axis>
		<limit lower="-2.9671" upper="2.9671" effort="9" velocity="1"></limit>
	</joint>
	<joint name="Joint_Left_Wrist_Upper" type="revolute">
		<origin xyz="0.030349 0.0002874 0.050604" rpy="0.0094487 -1.5708 -3.1416"></origin>
		<parent link="Link_Left_Forearm_to_Wrist_Upper"></parent>
		<child link="Link_Left_Wrist_Upper_to_Wrist_Lower"></child>
		<axis xyz="0 0 -1"></axis>
		<limit lower="-1.3963" upper="1.3963" effort="6" velocity="1"></limit>
	</joint>
	<joint name="Joint_Left_Wrist_Lower" type="revolute">
		<origin xyz="0.0592 0.03035 -0.03035" rpy="-1.5708 0 0"></origin>
		<parent link="Link_Left_Wrist_Upper_to_Wrist_Lower"></parent>
		<child link="Link_Left_Wrist_Lower_to_Gripper"></child>
		<axis xyz="0 0 1"></axis>
		<limit lower="-1.3963" upper="1.3963" effort="3" velocity="1"></limit>
	</joint>
	<joint name="Joint_Left_Gripper" type="fixed">
		<origin xyz="0.1165 -0.011 0.00025004" rpy="-1.5398 -1.5707 3.1106"></origin>
		<parent link="Link_Left_Wrist_Lower_to_Gripper"></parent>
		<child link="Link_Left_Gripper"></child>
	</joint>
	<joint name="Joint_Left_Gripper_Left_Inner_Knuckle" type="fixed">
		<origin xyz="0.12302 -0.011 -0.01765" rpy="1.5708 -1.5708 0"></origin>
		<parent link="Link_Left_Wrist_Lower_to_Gripper"></parent>
		<child link="Link_Left_Gripper_Left_Inner_Knuckle"></child>
		<mimic joint="Joint_Left_Gripper" multiplier="1" offset="0"></mimic>
	</joint>
	<joint name="Joint_Left_Gripper_Left_Finger" type="fixed">
		<origin xyz="-0.0032211 -0.057059 0" rpy="0 0 0"></origin>
		<parent link="Link_Left_Gripper_Left_Inner_Knuckle"></parent>
		<child link="Link_Left_Gripper_Left_Finger"></child>
		<mimic joint="Joint_Left_Gripper" multiplier="-1" offset="0"></mimic>
	</joint>
	<joint name="Joint_Left_Gripper_Right_Outer_Knuckle" type="fixed">
		<origin xyz="0.1165 -0.011 -0.06095" rpy="-1.5398 -1.5707 3.1106"></origin>
		<parent link="Link_Left_Wrist_Lower_to_Gripper"></parent>
		<child link="Link_Left_Gripper_Right_Outer_Knuckle"></child>
		<mimic joint="Joint_Left_Gripper" multiplier="-1" offset="0"></mimic>
	</joint>
	<joint name="Joint_Left_Gripper_Right_Inner_Knuckle" type="fixed">
		<origin xyz="0.12302 -0.011 -0.04305" rpy="1.5708 -1.5708 0"></origin>
		<parent link="Link_Left_Wrist_Lower_to_Gripper"></parent>
		<child link="Link_Left_Gripper_Right_Inner_Knuckle"></child>
		<mimic joint="Joint_Left_Gripper" multiplier="-1" offset="0"></mimic>
	</joint>
	<joint name="Joint_Left_Gripper_Right_Finger" type="fixed">
		<origin xyz="0.003219 -0.057059 0" rpy="0 0 0"></origin>
		<parent link="Link_Left_Gripper_Right_Inner_Knuckle"></parent>
		<child link="Link_Left_Gripper_Right_Finger"></child>
		<mimic joint="Joint_Left_Gripper" multiplier="1" offset="0"></mimic>
	</joint>
	<joint name="Joint_Right_Shoulder_Inner" type="revolute">
		<origin xyz="0 0.1426 -0.27657" rpy="-1.5708 0 0"></origin>
		<parent link="Link_Waist_Yaw_to_Shoulder_Inner"></parent>
		<child link="Link_Right_Shoulder_Inner_to_Shoulder_Outer"></child>
		<axis xyz="0 0 1"></axis>
		<limit lower="-2.8798" upper="2.8798" effort="21" velocity="1"></limit>
	</joint>
	<joint name="Joint_Right_Shoulder_Outer" type="revolute">
		<origin xyz="0.019245 0 0.081001" rpy="-1.5707 -1.3076E-05 -1.5708"></origin>
		<parent link="Link_Right_Shoulder_Inner_to_Shoulder_Outer"></parent>
		<child link="Link_Right_Shoulder_Outer_to_UpperArm"></child>
		<axis xyz="0 0 -1"></axis>
		<limit lower="-0.2618" upper="3.1416" effort="18" velocity="1"></limit>
	</joint>
	<joint name="Joint_Right_UpperArm" type="revolute">
		<origin xyz="0.12925 -0.0045 -0.01925" rpy="1.5708 -1.5707 1.5708"></origin>
		<parent link="Link_Right_Shoulder_Outer_to_UpperArm"></parent>
		<child link="Link_Right_UpperArm_to_Elbow"></child>
		<axis xyz="0 0 1"></axis>
		<limit lower="-2.8798" upper="2.8798" effort="15" velocity="1"></limit>
	</joint>
	<joint name="Joint_Right_Elbow" type="revolute">
		<origin xyz="0.025002 -0.036123 0.20735" rpy="-1.5707 -1.5708 3.1416"></origin>
		<parent link="Link_Right_UpperArm_to_Elbow"></parent>
		<child link="Link_Right_Elbow_to_Forearm"></child>
		<axis xyz="0 0 1"></axis>
		<limit lower="-2.61799" upper="0.0873" effort="12" velocity="1"></limit>
	</joint>
	<joint name="Joint_Right_Forearm" type="revolute">
		<origin xyz="0.1337 0.025 -0.03613" rpy="-1.5708 -6.6065E-05 -1.5708"></origin>
		<parent link="Link_Right_Elbow_to_Forearm"></parent>
		<child link="Link_Right_Forearm_to_Wrist_Upper"></child>
		<axis xyz="0 0 1"></axis>
		<limit lower="-2.9671" upper="2.9671" effort="9" velocity="1"></limit>
	</joint>
	<joint name="Joint_Right_Wrist_Upper" type="revolute">
		<origin xyz="0.03035 0 0.0506" rpy="6.6062E-05 -1.5708 3.1416"></origin>
		<parent link="Link_Right_Forearm_to_Wrist_Upper"></parent>
		<child link="Link_Right_Wrist_Upper_to_Wrist_Lower"></child>
		<axis xyz="0 0 -1"></axis>
		<limit lower="-1.3963" upper="1.3963" effort="6" velocity="1"></limit>
	</joint>
	<joint name="Joint_Right_Wrist_Lower" type="revolute">
		<origin xyz="0.0592 0.03035 -0.03035" rpy="-1.5708 0 0"></origin>
		<parent link="Link_Right_Wrist_Upper_to_Wrist_Lower"></parent>
		<child link="Link_Right_Wrist_Lower_to_Gripper"></child>
		<axis xyz="0 0 1"></axis>
		<limit lower="-1.3963" upper="1.3963" effort="3" velocity="1"></limit>
	</joint>
	<joint name="Joint_Right_Gripper" type="fixed">
		<origin xyz="0.1165 -0.011 0.00032995" rpy="1.5708 -1.5708 0"></origin>
		<parent link="Link_Right_Wrist_Lower_to_Gripper"></parent>
		<child link="Link_Right_Gripper"></child>
	</joint>
	<joint name="Joint_Right_Gripper_Left_Inner_Knuckle" type="fixed">
		<origin xyz="0.12301 -0.011 -0.017569" rpy="1.5708 -1.5708 0"></origin>
		<parent link="Link_Right_Wrist_Lower_to_Gripper"></parent>
		<child link="Link_Right_Gripper_Left_Inner_Knuckle"></child>
		<mimic joint="Joint_Right_Gripper" multiplier="1" offset="0"></mimic>
	</joint>
	<joint name="Joint_Right_Gripper_Left_Finger" type="fixed">
		<origin xyz="-0.0032124 -0.05706 0" rpy="0 0 0"></origin>
		<parent link="Link_Right_Gripper_Left_Inner_Knuckle"></parent>
		<child link="Link_Right_Gripper_Left_Finger"></child>
		<mimic joint="Joint_Right_Gripper" multiplier="-1" offset="0"></mimic>
	</joint>
	<joint name="Joint_Right_Gripper_Right_Outer_Knuckle" type="fixed">
		<origin xyz="0.1165 -0.011 -0.06087" rpy="1.5708 -1.5708 0"></origin>
		<parent link="Link_Right_Wrist_Lower_to_Gripper"></parent>
		<child link="Link_Right_Gripper_Right_Outer_Knuckle"></child>
		<mimic joint="Joint_Right_Gripper" multiplier="-1" offset="0"></mimic>
	</joint>
	<joint name="Joint_Right_Gripper_Right_Inner_Knuckle" type="fixed">
		<origin xyz="0.12302 -0.011 -0.042969" rpy="1.5708 -1.5708 0"></origin>
		<parent link="Link_Right_Wrist_Lower_to_Gripper"></parent>
		<child link="Link_Right_Gripper_Right_Inner_Knuckle"></child>
		<mimic joint="Joint_Right_Gripper" multiplier="-1" offset="0"></mimic>
	</joint>
	<joint name="Joint_Right_Gripper_Right_Finger" type="fixed">
		<origin xyz="0.0032278 -0.057059 0" rpy="0 0 0"></origin>
		<parent link="Link_Right_Gripper_Right_Inner_Knuckle"></parent>
		<child link="Link_Right_Gripper_Right_Finger"></child>
		<mimic joint="Joint_Right_Gripper" multiplier="1" offset="0"></mimic>
	</joint>
	<joint name="Joint_Neck_Roll" type="revolute">
		<origin xyz="-0.0393 0 -0.3866" rpy="3.1415 1.5708 0"></origin>
		<parent link="Link_Waist_Yaw_to_Shoulder_Inner"></parent>
		<child link="Link_Neck_Roll_to_Neck_Pitch"></child>
		<axis xyz="0 0 1"></axis>
		<limit lower="-0.4363" upper="0.4363" effort="1" velocity="1"></limit>
	</joint>
	<joint name="Joint_Neck_Pitch" type="revolute">
		<origin xyz="0 0.0265 -0.0343" rpy="-1.5708 0 0"></origin>
		<parent link="Link_Neck_Roll_to_Neck_Pitch"></parent>
		<child link="Link_Neck_Pitch_to_Neck_Yaw"></child>
		<axis xyz="0 0 -1"></axis>
		<limit lower="-0.6981" upper="0.6981" effort="1" velocity="1"></limit>
	</joint>
	<joint name="Joint_Neck_Yaw" type="revolute">
		<origin xyz="0.045 0 -0.0273" rpy="-1.5708 -6.6058E-05 1.5708"></origin>
		<parent link="Link_Neck_Pitch_to_Neck_Yaw"></parent>
		<child link="Link_Neck_Yaw_to_Head"></child>
		<axis xyz="0 0 -1"></axis>
		<limit lower="-0.7854" upper="0.7854" effort="1" velocity="1"></limit>
	</joint>
	<joint name="Joint_Head" type="fixed">
		<origin xyz="0.0066431 -0.00079595 -0.11323" rpy="3.1416 0 0"></origin>
		<parent link="Link_Neck_Yaw_to_Head"></parent>
		<child link="Link_Head"></child>
		<axis xyz="0 0 0"></axis>
	</joint>
	<joint name="Joint_Virtual_X" type="prismatic">
		<origin xyz="0 0 0" rpy="0 0 0"></origin>
		<parent link="Link_Zero_Point"></parent>
		<child link="Link_Virtual_X"></child>
		<axis xyz="1 0 0"></axis>
		<limit lower="-10" upper="10" effort="100" velocity="1.0"></limit>
	</joint>
	<joint name="Joint_Virtual_Y" type="prismatic">
		<origin xyz="0 0 0" rpy="0 0 0"></origin>
		<parent link="Link_Virtual_X"></parent>
		<child link="Link_Virtual_Y"></child>
		<axis xyz="0 1 0"></axis>
		<limit lower="-10" upper="10" effort="100" velocity="1.0"></limit>
	</joint>
	<joint name="Joint_Virtual_Theta" type="revolute">
		<origin xyz="0 0 0" rpy="0 0 0"></origin>
		<parent link="Link_Virtual_Y"></parent>
		<child link="Link_Virtual_Theta"></child>
		<axis xyz="0 0 1"></axis>
		<limit lower="-3.141592653589793" upper="3.141592653589793" effort="100" velocity="1.0"></limit>
	</joint>
	<joint name="Joint_Ground_Vehicle_Fixed" type="fixed">
		<origin xyz="0 0 0" rpy="0 0 1.5707963267949"></origin>
		<parent link="Link_Virtual_Theta"></parent>
		<child link="Link_Ground_Vehicle"></child>
	</joint>
</robot>
